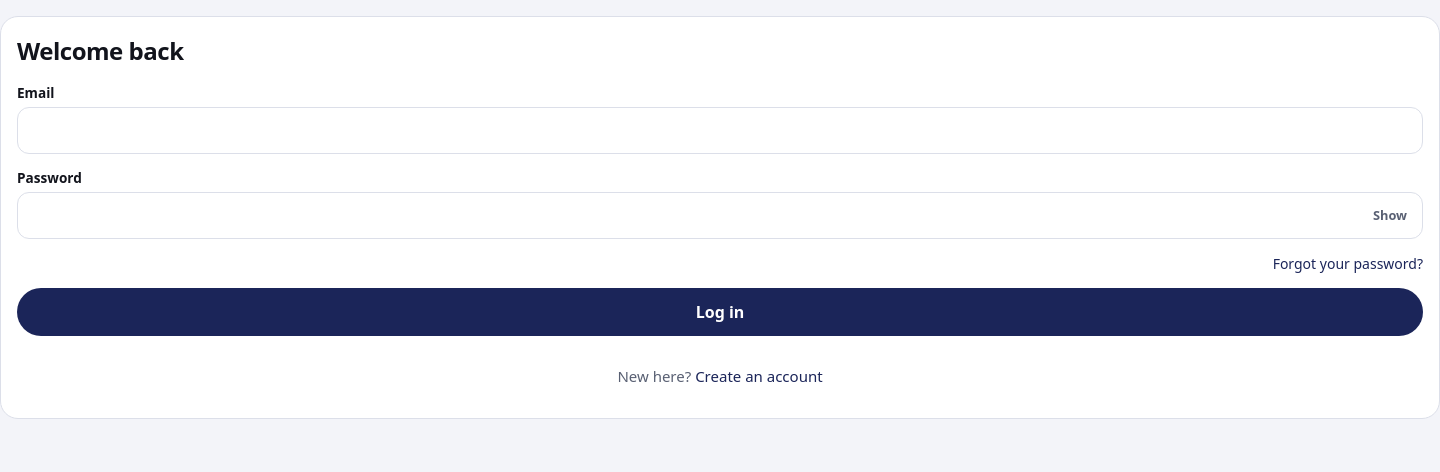
Test: AuthForm in log-in mode › shows and announces the error from a failed request, then lets the user retry
Type "sam@example.com" into the field labelled "Email".
click(720, 131); type("sam@example.com")  # box [17,107,1423,154]
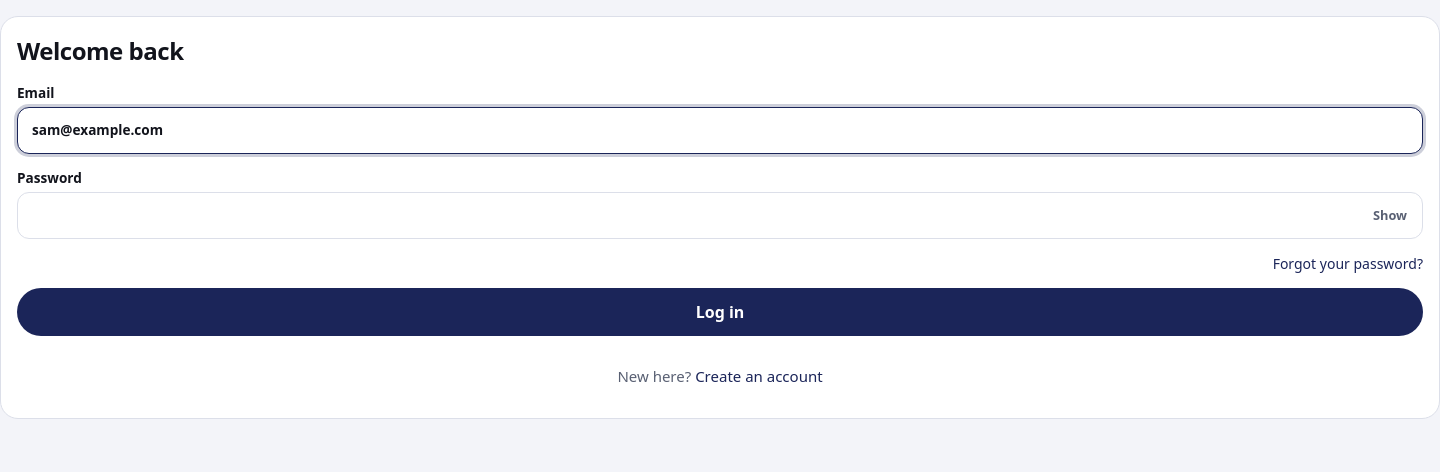
Type "wrong-password" into the password field labelled "Password Show".
click(720, 215); type("wrong-password")  # box [17,192,1423,239]
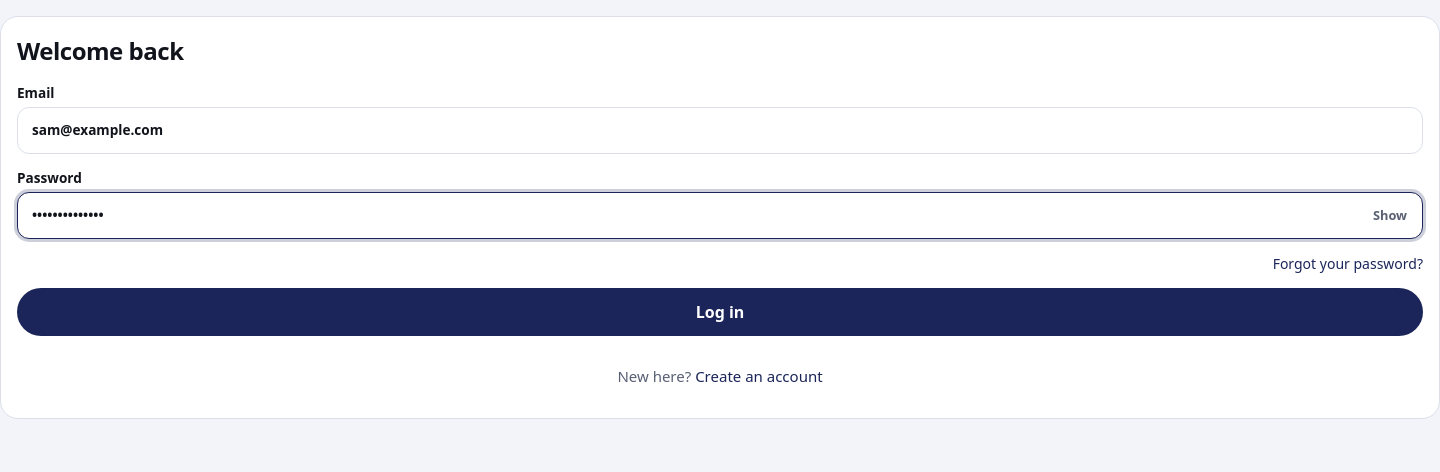
Click the button "Log in".
click(720, 312)  # box [17,288,1423,336]
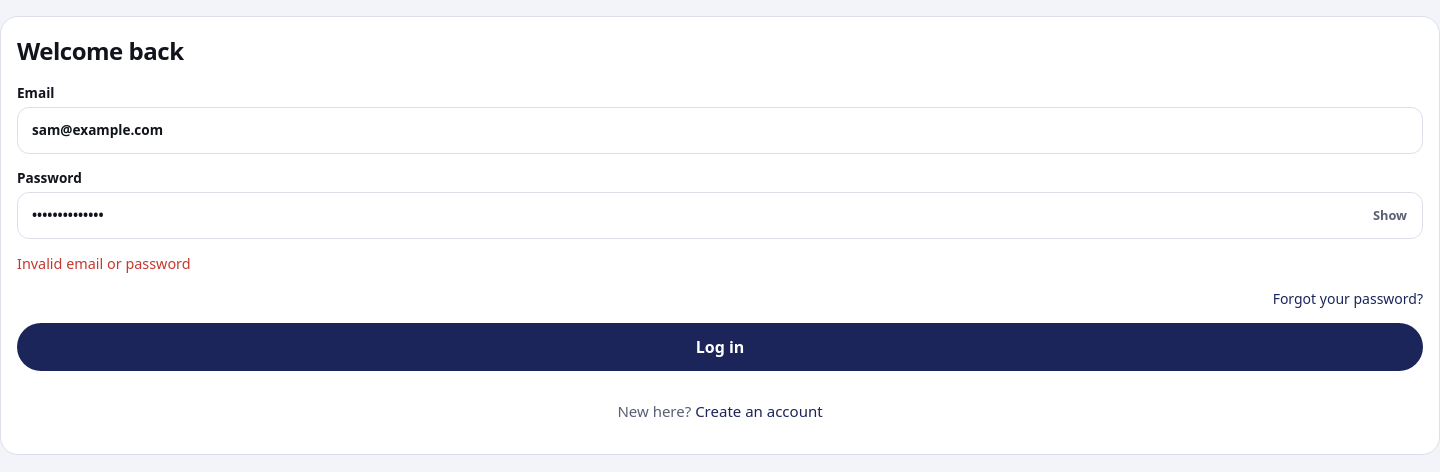
Expected: the button "Log in" is enabled, [17,323,1423,371]
Expected: the message reads "Invalid email or password", [17,254,191,273]
